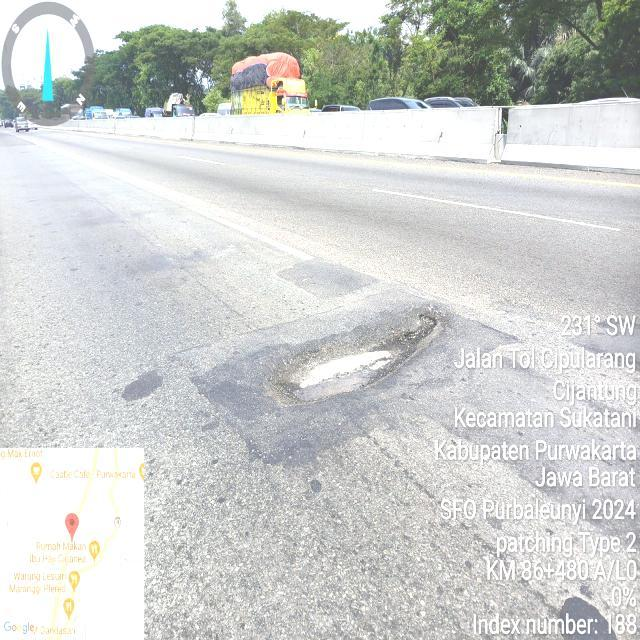Buraco: (258, 304, 451, 414)
